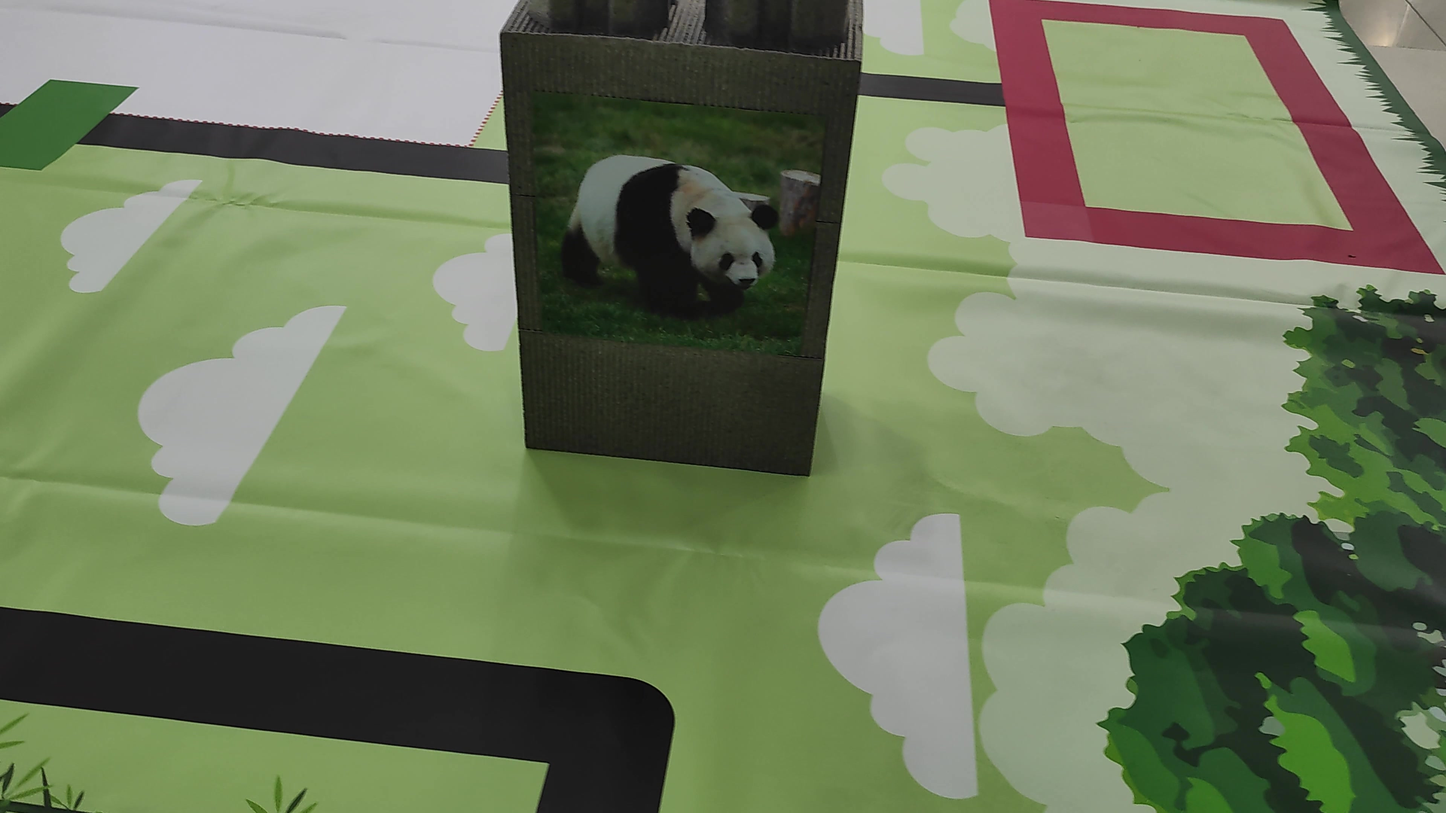panda: (546, 117, 803, 332)
